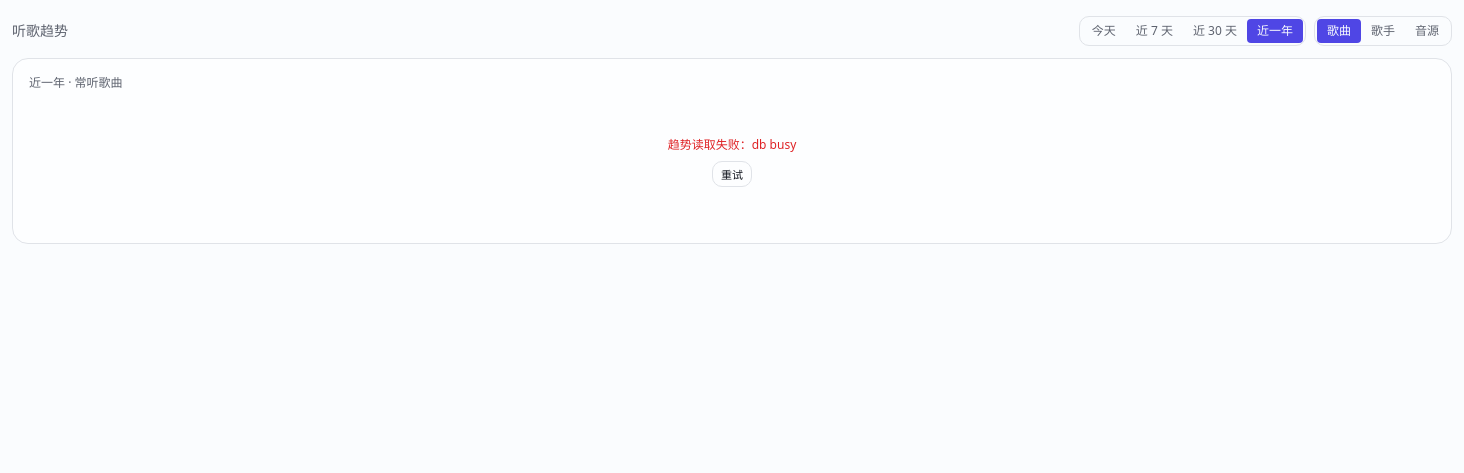
听歌趋势 · 换档不闪 › 读取失败时给出重试，点击后重新取数
Expected: the message "趋势读取失败：db busy 重试" is shown, 668,136 -> 796,187
Expected: the text "趋势读取失败：db busy" is shown, 668,137 -> 796,153
Click the button "重试". click: (732, 174)
box: 712,161 -> 752,187
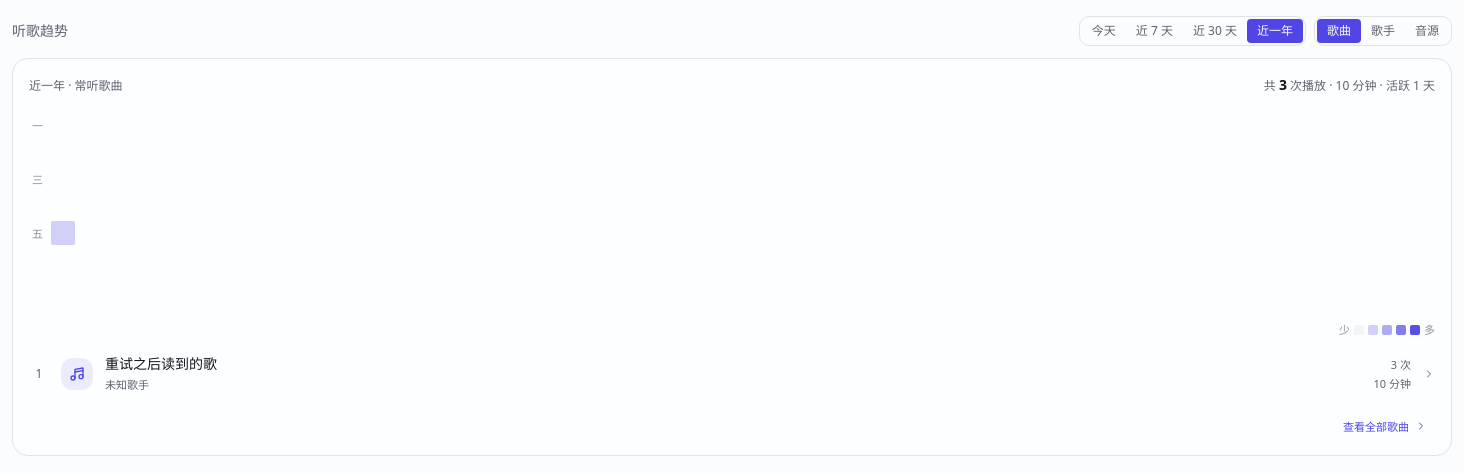
Expected: the text "重试之后读到的歌" is shown, 105,354 -> 217,374
